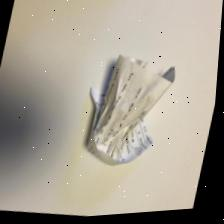paper: (72, 44, 185, 177)
